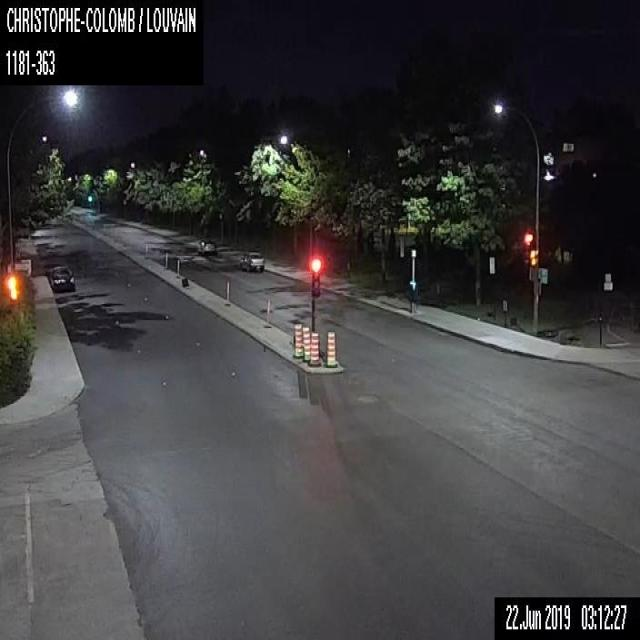construction: (308, 331, 321, 366), (292, 323, 303, 357), (324, 328, 334, 365), (301, 324, 309, 362)
vehicle: (48, 263, 75, 292), (238, 250, 264, 272), (196, 236, 218, 256)
